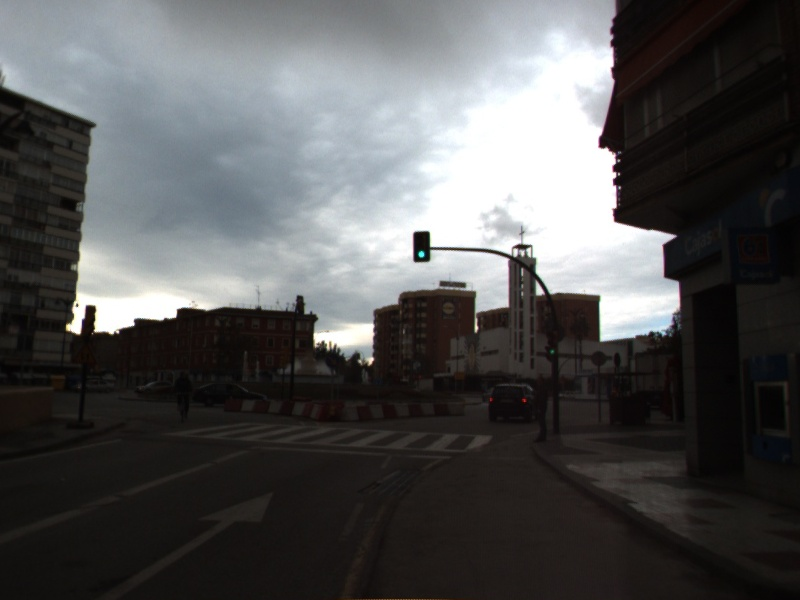STRAIGHT: (96, 490, 276, 600)
